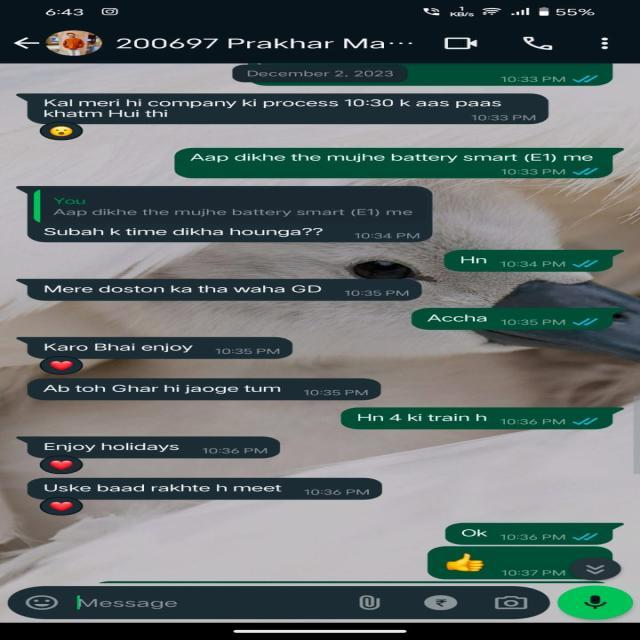scam: (34, 94, 512, 122), (32, 220, 348, 244), (38, 282, 334, 300), (38, 381, 298, 398), (41, 481, 291, 498), (27, 436, 199, 456), (34, 338, 213, 356)
